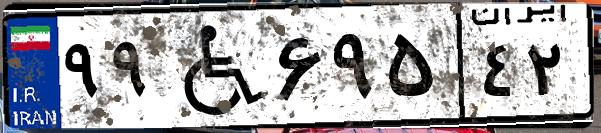2: (525, 38, 570, 115)
4: (475, 38, 525, 113)
5: (385, 28, 445, 110)
6: (270, 28, 330, 110)
9: (330, 28, 385, 110), (57, 26, 110, 100), (110, 28, 158, 98)
ژ (معلولین و جانبازان): (158, 12, 270, 120)
